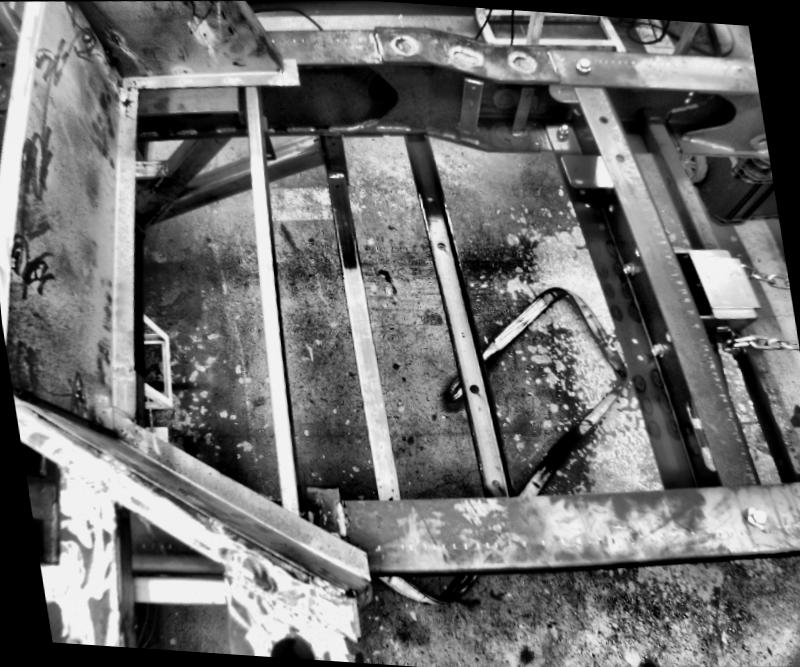bolt: (734, 500, 772, 528), (569, 51, 592, 74), (554, 120, 570, 139), (648, 340, 665, 357), (620, 260, 636, 276)
bracket: (299, 469, 357, 528), (496, 77, 540, 141), (449, 70, 489, 140), (556, 147, 614, 189), (254, 110, 280, 162)
hole: (266, 629, 314, 657), (464, 380, 480, 394), (488, 474, 501, 488), (612, 150, 624, 161), (597, 113, 608, 124), (628, 334, 640, 344), (602, 200, 612, 212), (424, 192, 434, 203), (434, 239, 445, 249), (634, 351, 644, 361), (580, 200, 589, 210), (332, 180, 340, 188), (264, 151, 272, 156), (572, 166, 578, 171), (310, 135, 316, 140), (327, 139, 332, 144), (576, 188, 582, 192)
